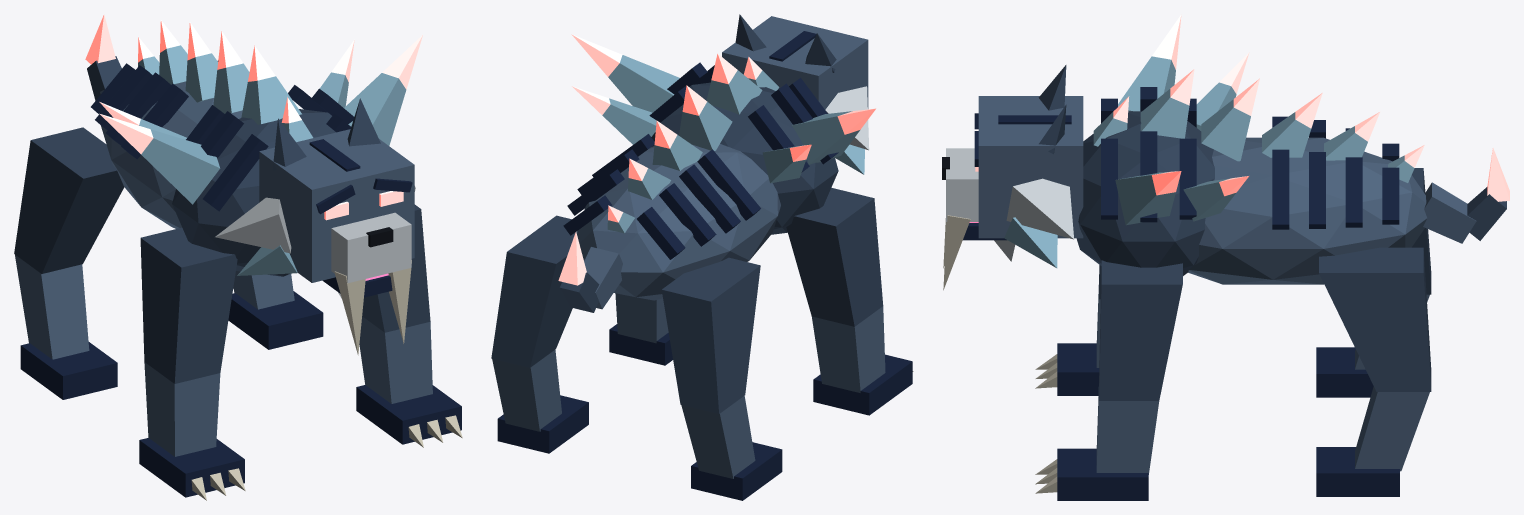
File: foreman.glb
3 views of the same model, side by side, from view 1: azimuth 30°, elevation 25°; view 2: azimuth 150°, elevation 25°; view 3: azimuth 270°, elevation 25° (orthographic). The views are drawn at different scales.
Parts seen in each view (by area): view 1: IForemanHull, IForemanGlow; view 2: IForemanHull, IForemanGlow; view 3: IForemanHull, IForemanGlow.
Part boxes in pixels (bbox=[...]): IForemanHull: bbox=[14, 45, 462, 500]; IForemanGlow: bbox=[85, 14, 422, 280]; IForemanHull: bbox=[491, 14, 913, 500]; IForemanGlow: bbox=[558, 34, 875, 285]; IForemanHull: bbox=[942, 56, 1506, 500]; IForemanGlow: bbox=[969, 14, 1509, 222].
Size of the model in its own units: 2.84 by 3.08 by 4.34.
